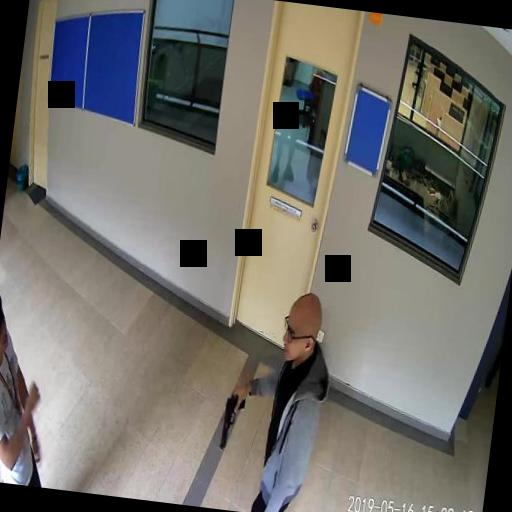Handgun: (220, 392, 246, 450)
